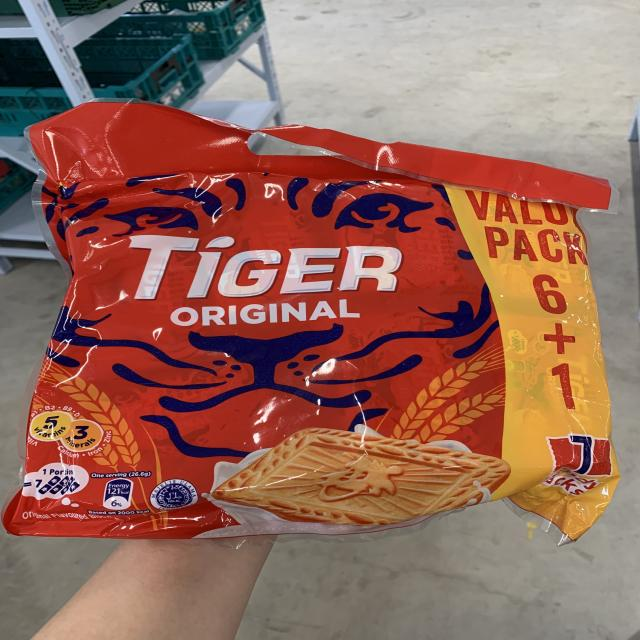object_name: (48, 116, 602, 529)
